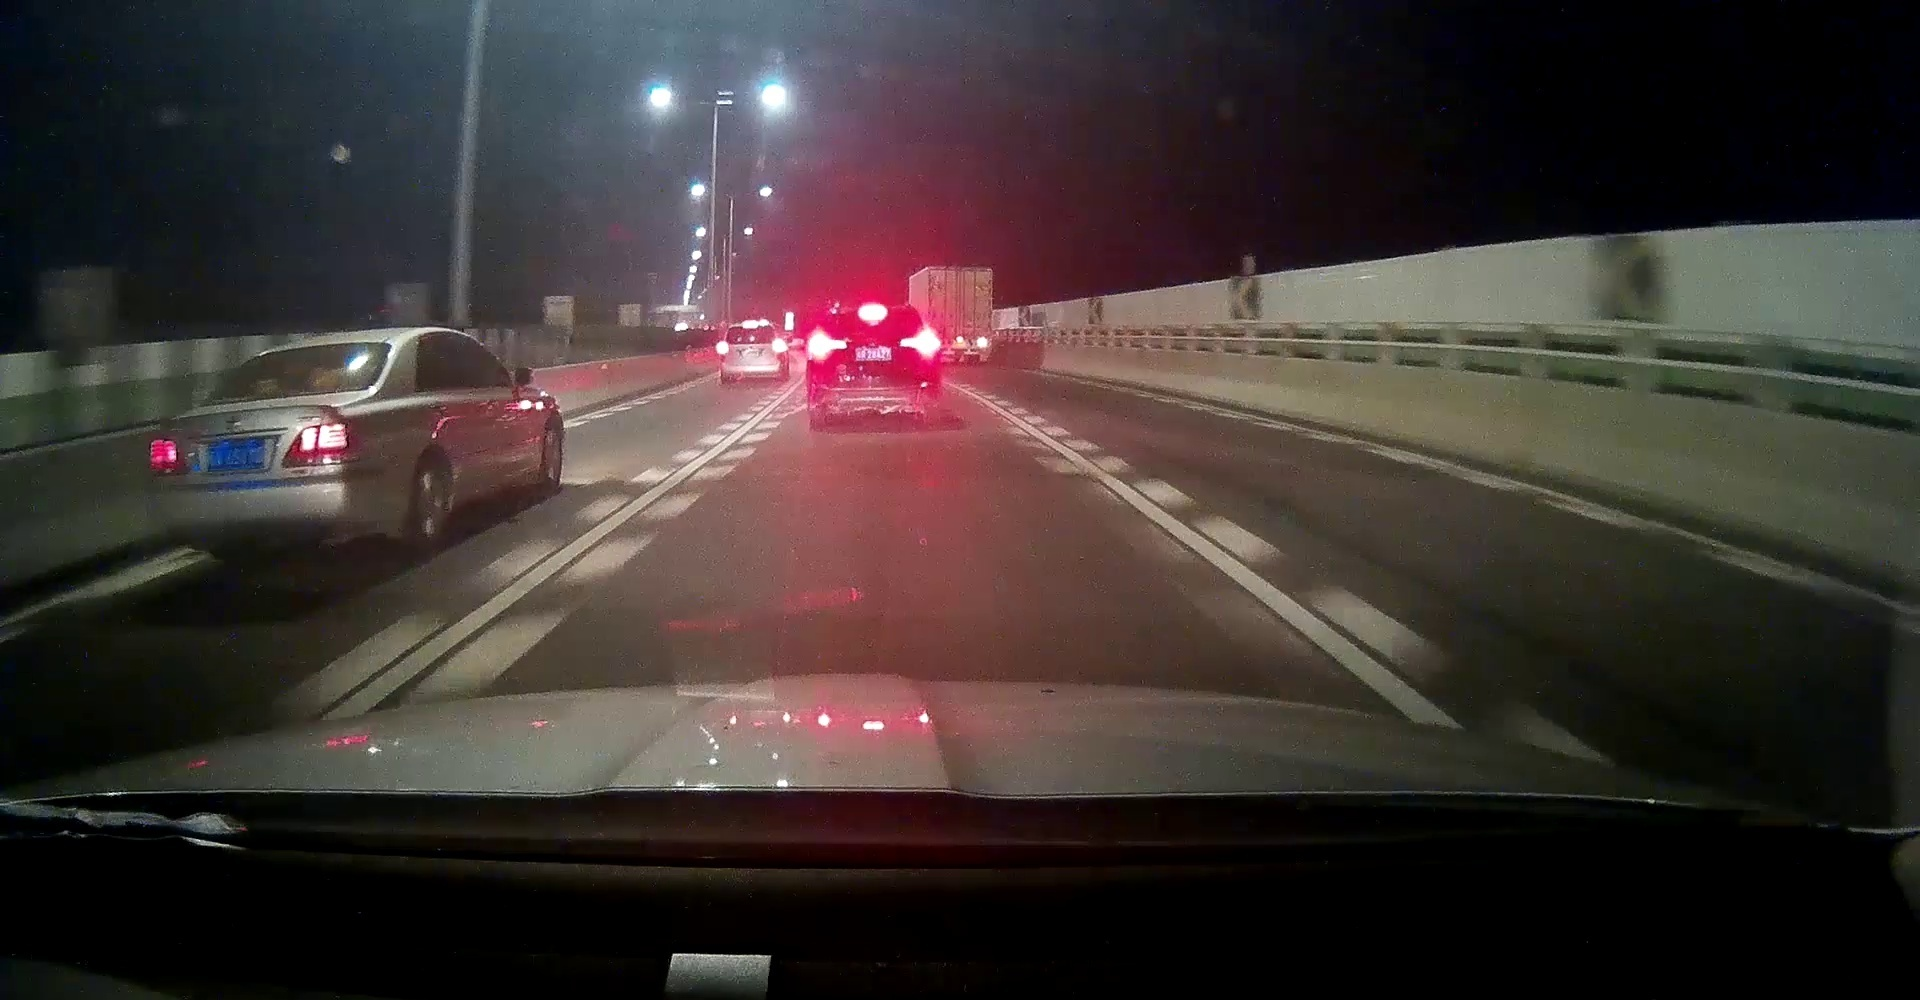L_light: (150, 439, 185, 476), (809, 339, 846, 353), (720, 344, 726, 360)
R_light: (281, 421, 362, 468), (900, 338, 940, 352), (775, 343, 778, 359)
T_light: (861, 308, 883, 317), (288, 349, 317, 355), (744, 325, 757, 327)
night-brake: (808, 306, 941, 429), (720, 324, 781, 382)
night-no: (147, 331, 397, 569)
